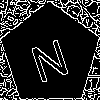N: (25, 30, 72, 84)
